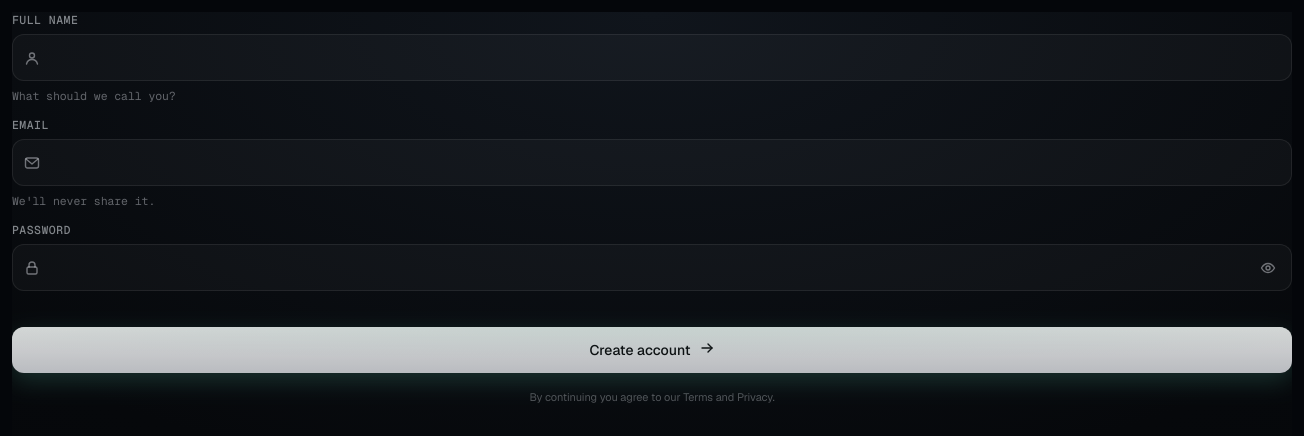
Test: SignUpForm › keeps submit disabled while the form is invalid and enables it once filled correctly
The image size is (1304, 436).
Expected: the button "Create account" is disabled, 12,327 -> 1292,373
Step 1. Type "Jane Doe" into the field labelled "Full name" → (671, 58), box 51,35 -> 1291,80
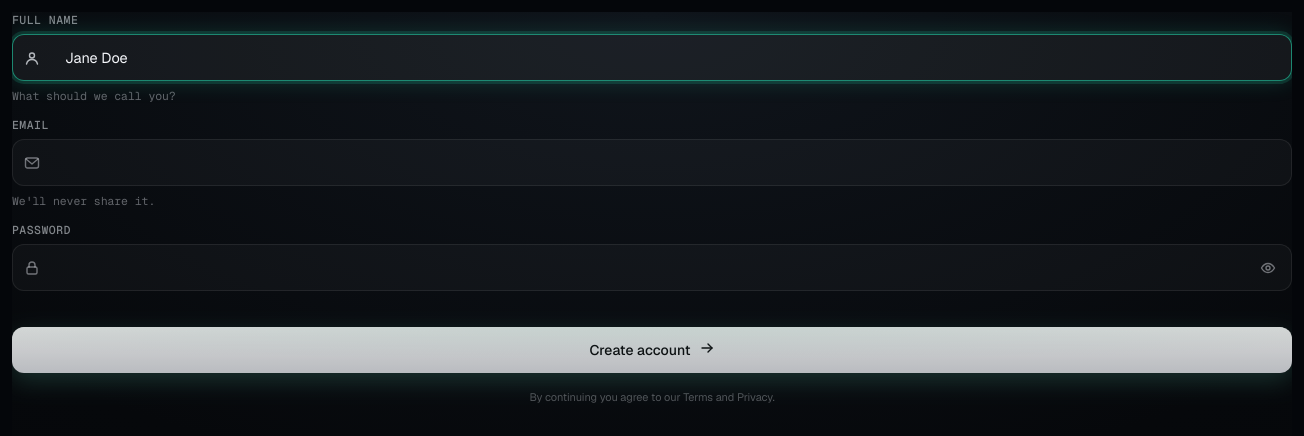
Step 2. Type "jane@example.com" into the field labelled "Email" → (671, 162), box 51,140 -> 1291,185
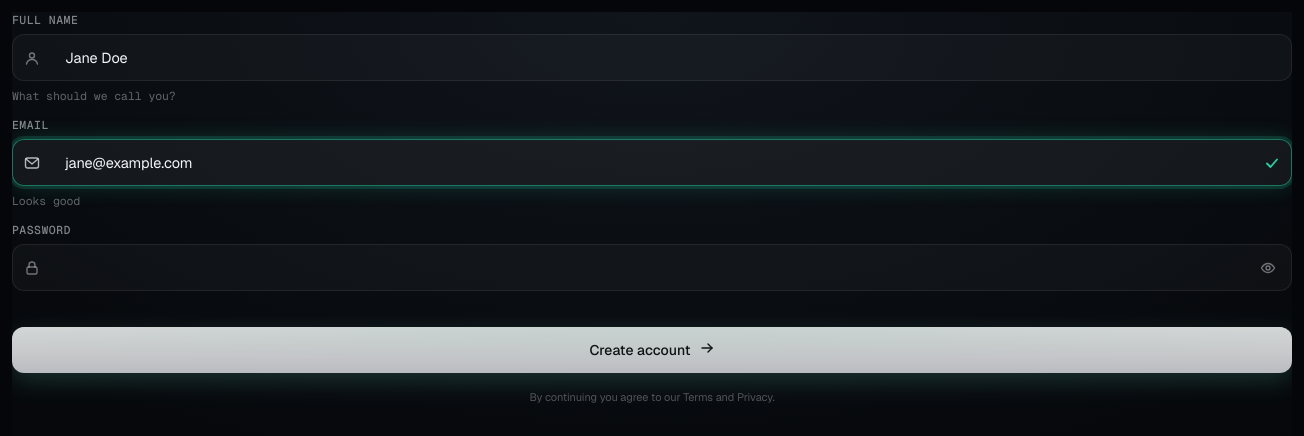
Step 3. Type "Pass123" into the password field labelled "Password" → (650, 268), box 51,245 -> 1249,290
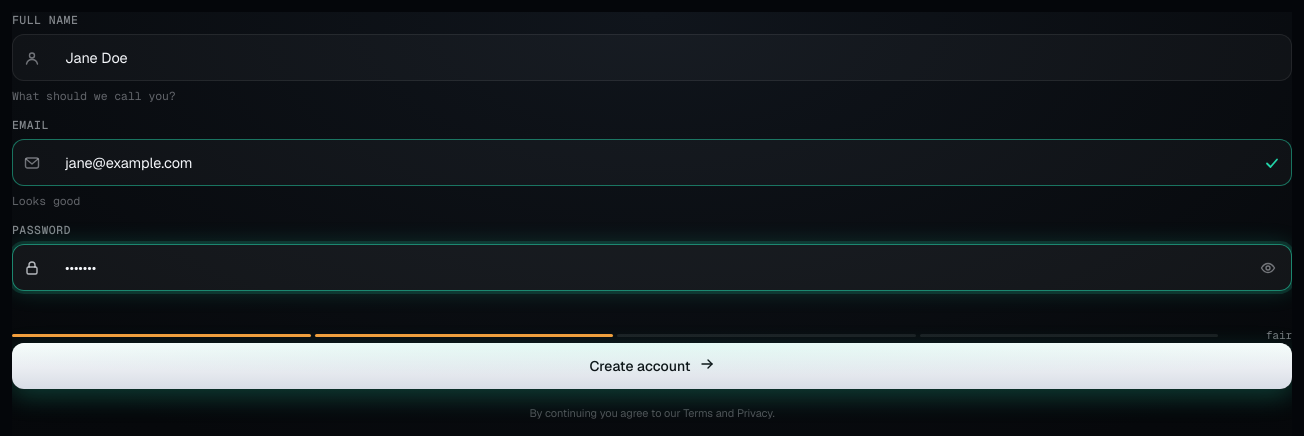
Expected: the button "Create account" is enabled, 12,343 -> 1292,389
